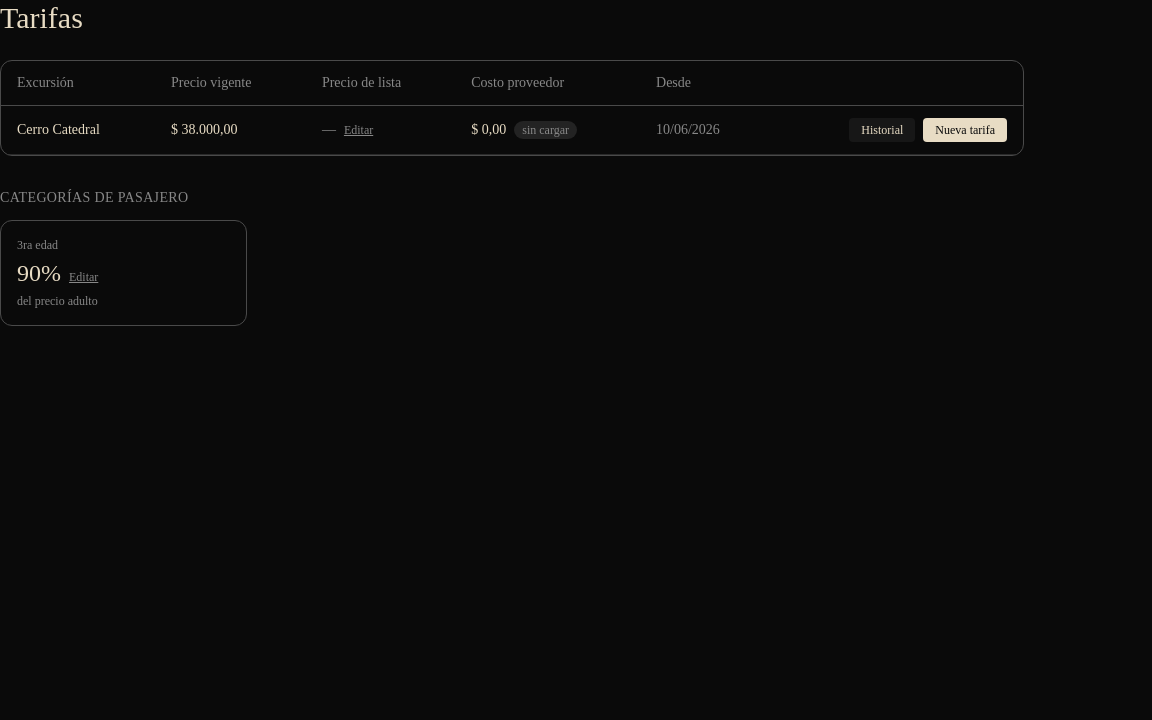
Test case: RatesManager con payload numérico real (regresión P0 s49) › click 'Nueva tarifa' con prefill NUMÉRICO renderiza el modal SIN crashear (el crash del walk)
This screenshot has width=1152, height=720.
Note: Exactamente el gesto que mató la página en prod:
Click the button "Nueva tarifa" at x=965, y=130, box top-left (923, 118), bottom-right (1007, 142)
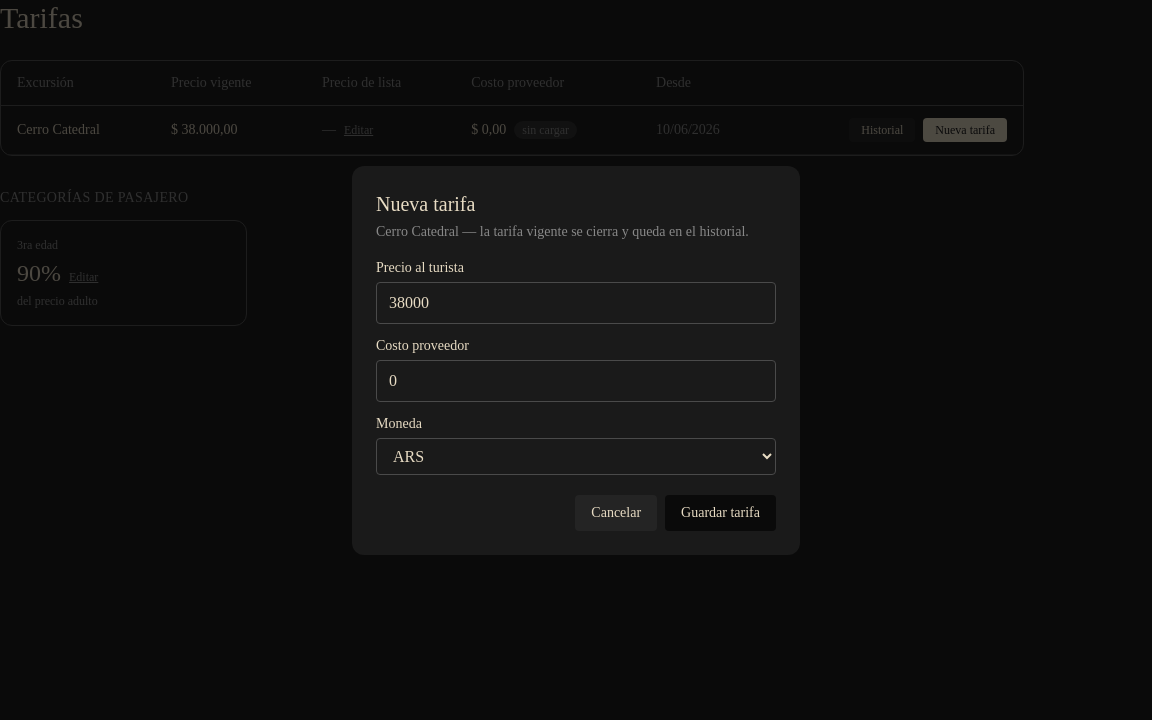
Now the button "Guardar tarifa" is shown, box top-left (665, 494), bottom-right (776, 530)
Now the field labelled "Precio al turista" holds "38000", box top-left (376, 282), bottom-right (776, 324)
